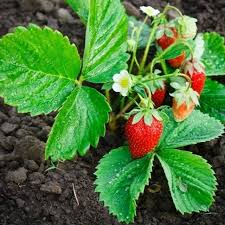Fresa: (121, 103, 165, 162)
